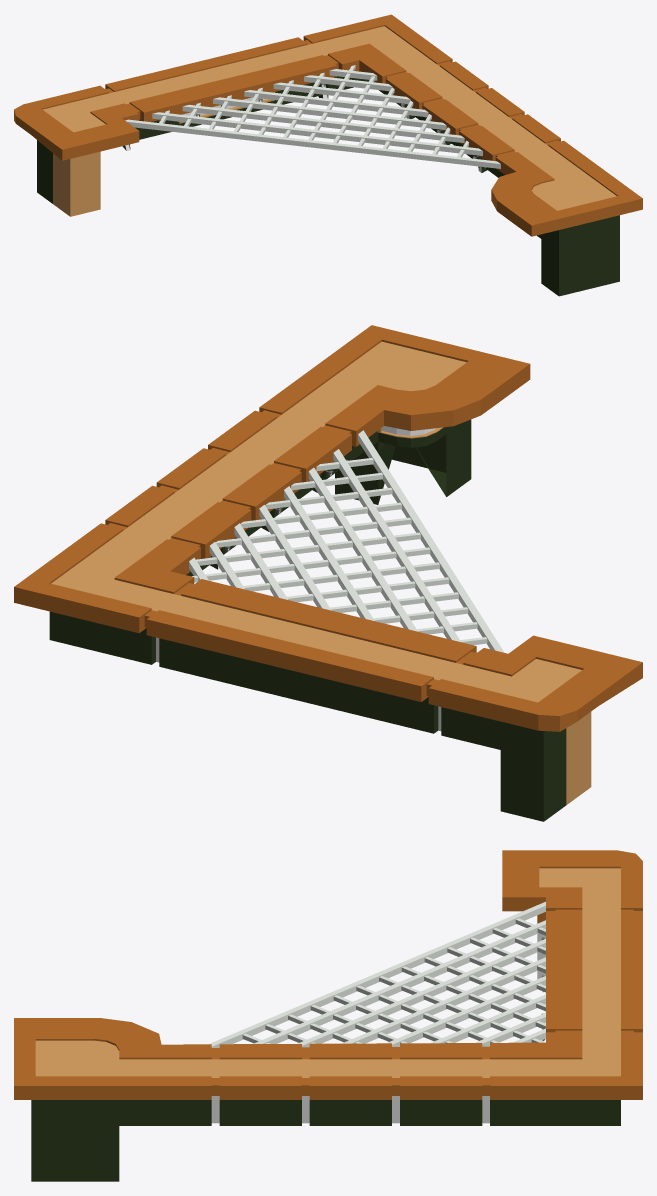
Rendered from Complemento Estadio Retangular.fbx.
3 views of the same model, one above another, from view 1: azimuth 30°, elevation 25°; view 2: azimuth 150°, elevation 25°; view 3: azimuth 270°, elevation 25° (orthographic). The views are drawn at different scales.
Parts seen in each view (by area): view 1: Complemento do Estadio Retangular; view 2: Complemento do Estadio Retangular; view 3: Complemento do Estadio Retangular.
Boxes of the visible parts, box(x1,y1,x2,y2) form: Complemento do Estadio Retangular: box(14, 14, 642, 296); Complemento do Estadio Retangular: box(14, 325, 642, 821); Complemento do Estadio Retangular: box(14, 850, 642, 1181).
Size of the model in its own units: 28636 by 25369 by 5300.
